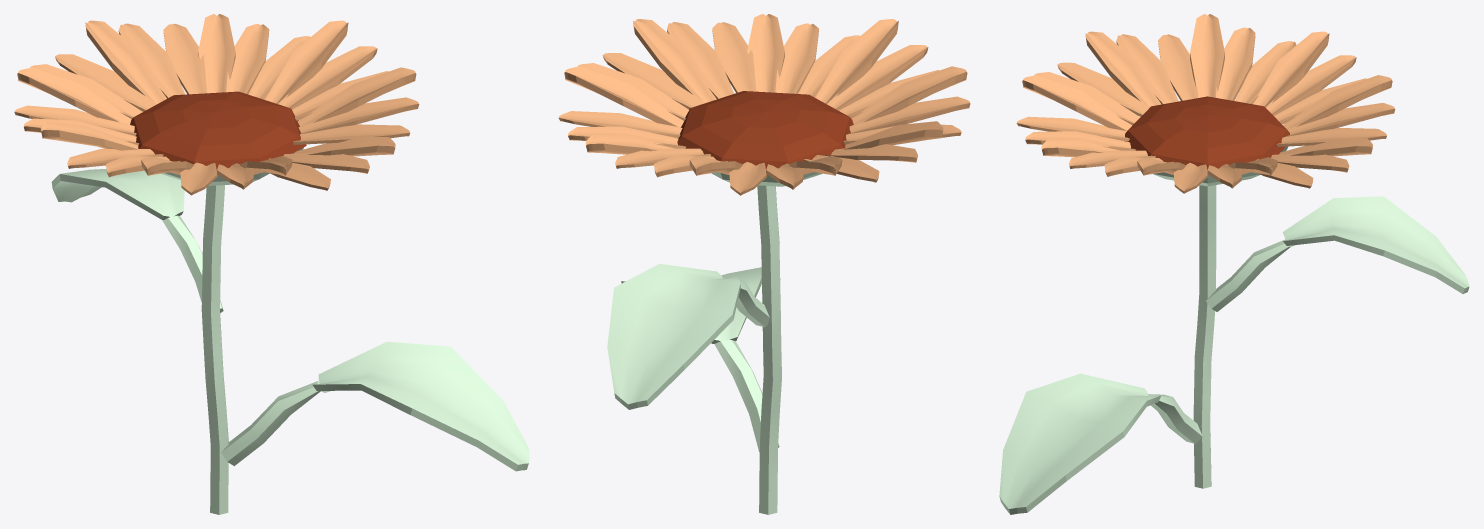
Rendered from flower_yellow_v01.fbx.
3 renders of one model, left to right at view 1: azimuth 30°, elevation 25°; view 2: azimuth 150°, elevation 25°; view 3: azimuth 270°, elevation 25°, orthographic. The views are drawn at different scales.
Visible parts, largest first — view 1: leaf_geo3, stempel_geo, petal_geo9 (×3), stem_geo, petal_geo7 (×3), petal_geo8 (×3), petal_geo6 (×3), petal_geo10 (×3), leaf_geo2, petal_geo11 (×3), petal_geo5 (×3), stem_geo2 (+3 smaller); view 2: leaf_geo2, stempel_geo, petal_geo6 (×3), stem_geo, petal_geo4 (×3), petal_geo5 (×3), petal_geo7 (×3), petal_geo3 (×3), petal_geo8 (×3), petal_geo11 (×3), petal_geo9 (×3), petal_geo10 (×3) (+3 smaller); view 3: leaf_geo3, stempel_geo, leaf_geo2, petal_geo3 (×3), petal_geo11 (×3), stem_geo, petal_geo10 (×3), petal_geo4 (×3), petal_geo9 (×3), petal_geo5 (×3), petal_geo8 (×3), petal_geo6 (×3) (+3 smaller).
Boxes of the visible parts, left/top/right/bottom form: leaf_geo3: left=312, top=341, right=529, bottom=471; stempel_geo: left=130, top=91, right=306, bottom=170; petal_geo9 (×3): left=85, top=20, right=206, bottom=103; stem_geo: left=201, top=185, right=228, bottom=514; petal_geo7 (×3): left=265, top=20, right=388, bottom=120; petal_geo8 (×3): left=198, top=14, right=310, bottom=99; petal_geo6 (×3): left=293, top=67, right=419, bottom=144; petal_geo10 (×3): left=17, top=54, right=156, bottom=124; leaf_geo2: left=51, top=169, right=184, bottom=219; petal_geo11 (×3): left=14, top=105, right=139, bottom=150; petal_geo5 (×3): left=269, top=137, right=395, bottom=190; stem_geo2: left=221, top=381, right=320, bottom=466; leaf_geo2: left=607, top=264, right=740, bottom=409; stempel_geo: left=677, top=91, right=853, bottom=169; petal_geo6 (×3): left=633, top=19, right=756, bottom=103; stem_geo: left=757, top=185, right=781, bottom=514; petal_geo4 (×3): left=815, top=19, right=939, bottom=118; petal_geo5 (×3): left=747, top=14, right=859, bottom=97; petal_geo7 (×3): left=564, top=53, right=704, bottom=127; petal_geo3 (×3): left=843, top=66, right=970, bottom=144; petal_geo8 (×3): left=558, top=111, right=685, bottom=154; petal_geo11 (×3): left=803, top=121, right=943, bottom=182; petal_geo9 (×3): left=615, top=148, right=742, bottom=177; petal_geo10 (×3): left=729, top=155, right=842, bottom=195; leaf_geo3: left=999, top=373, right=1161, bottom=514; stempel_geo: left=1124, top=96, right=1289, bottom=169; leaf_geo2: left=1282, top=196, right=1469, bottom=293; petal_geo3 (×3): left=1085, top=31, right=1198, bottom=107; petal_geo11 (×3): left=1190, top=14, right=1296, bottom=104; stem_geo: left=1193, top=185, right=1216, bottom=488; petal_geo10 (×3): left=1253, top=31, right=1366, bottom=124; petal_geo4 (×3): left=1022, top=62, right=1149, bottom=130; petal_geo9 (×3): left=1276, top=75, right=1395, bottom=146; petal_geo5 (×3): left=1016, top=116, right=1135, bottom=157; petal_geo8 (×3): left=1256, top=138, right=1372, bottom=188; petal_geo6 (×3): left=1069, top=150, right=1186, bottom=176.
Size of the model in its own units: 2.57 by 2.67 by 2.9.
